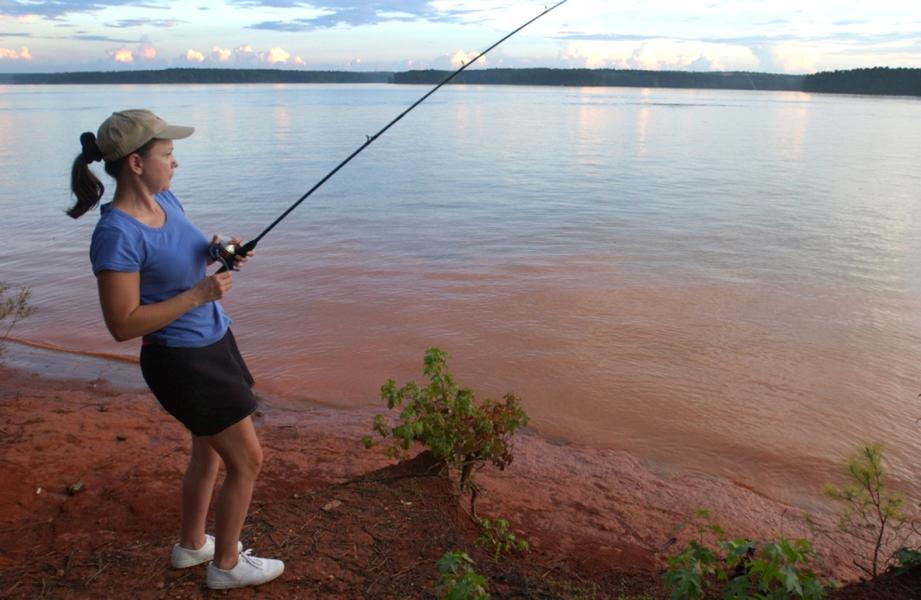person: (67, 110, 286, 593)
